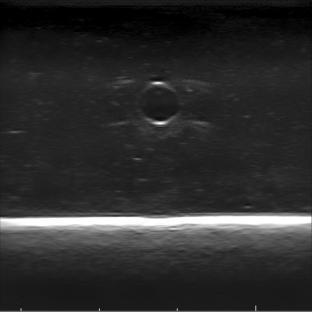vessel: (134, 79, 184, 128)
